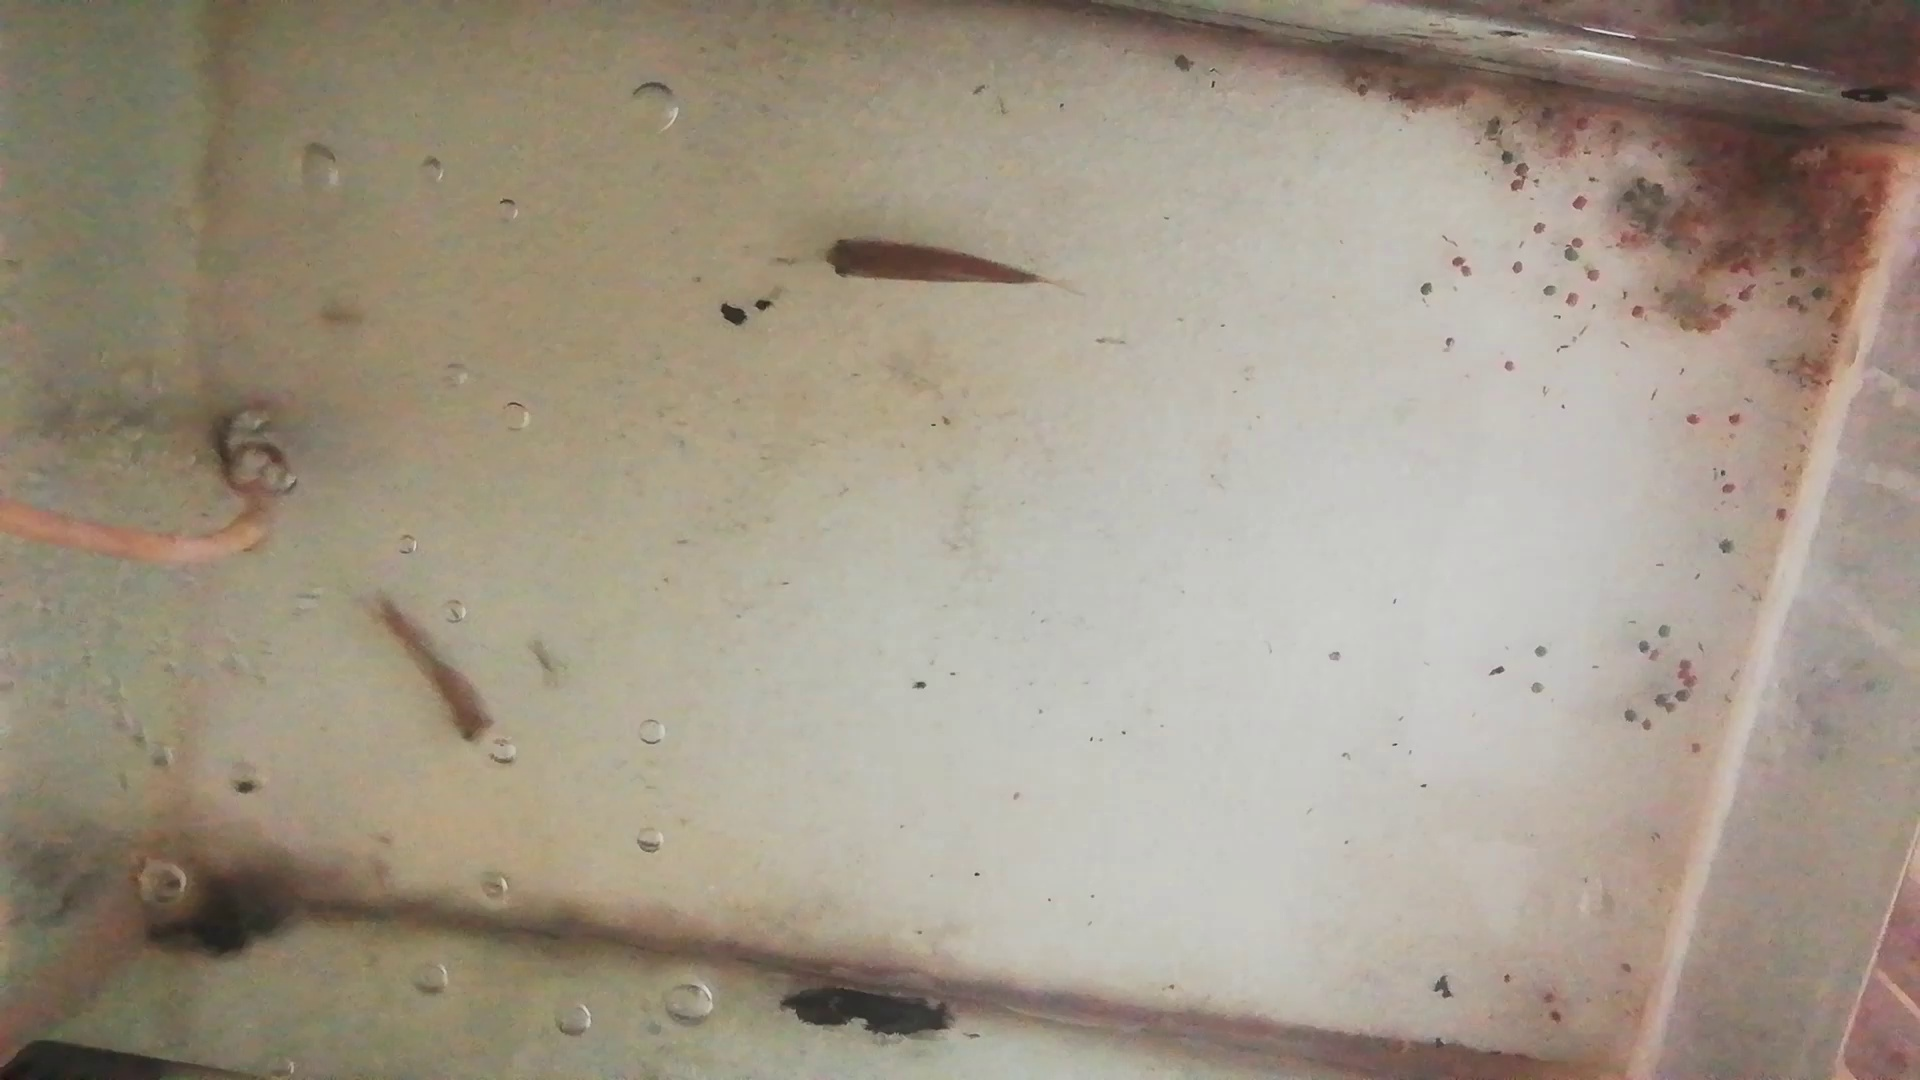fish: (372, 585, 497, 742), (825, 241, 1038, 295)
